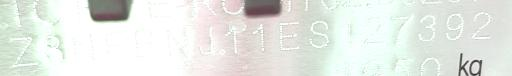letter: (9, 35, 39, 67), (388, 11, 414, 45), (164, 24, 190, 58), (132, 26, 158, 60), (70, 29, 96, 63), (276, 19, 302, 52), (307, 17, 331, 50), (102, 28, 126, 61), (196, 23, 218, 57), (42, 33, 66, 64), (470, 10, 492, 41), (362, 15, 384, 46), (222, 23, 242, 55), (445, 11, 465, 42), (416, 13, 436, 44), (250, 22, 268, 56), (339, 17, 355, 47)
